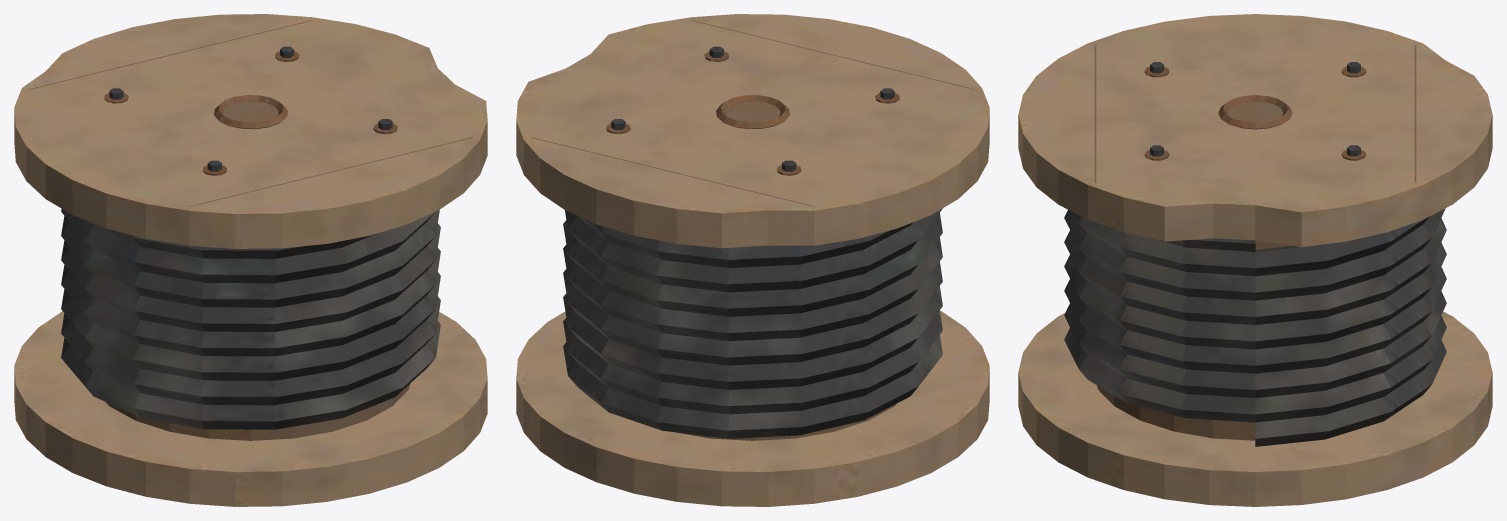
The model's file is F45_wire_spool.glb.
3 renders of one model, left to right at view 1: azimuth 30°, elevation 25°; view 2: azimuth 150°, elevation 25°; view 3: azimuth 270°, elevation 25°, orthographic.
Visible parts, largest first — view 1: Lower wooden flange; view 2: Lower wooden flange; view 3: Lower wooden flange.
Part boxes in pixels (x1,y1,x2,y2): Lower wooden flange: (14,14,487,506); Lower wooden flange: (516,14,989,506); Lower wooden flange: (1018,14,1492,506).
Bounding box in the file's own units: 0.8 × 0.5595 × 0.8.
5 materials, 5 textured.
